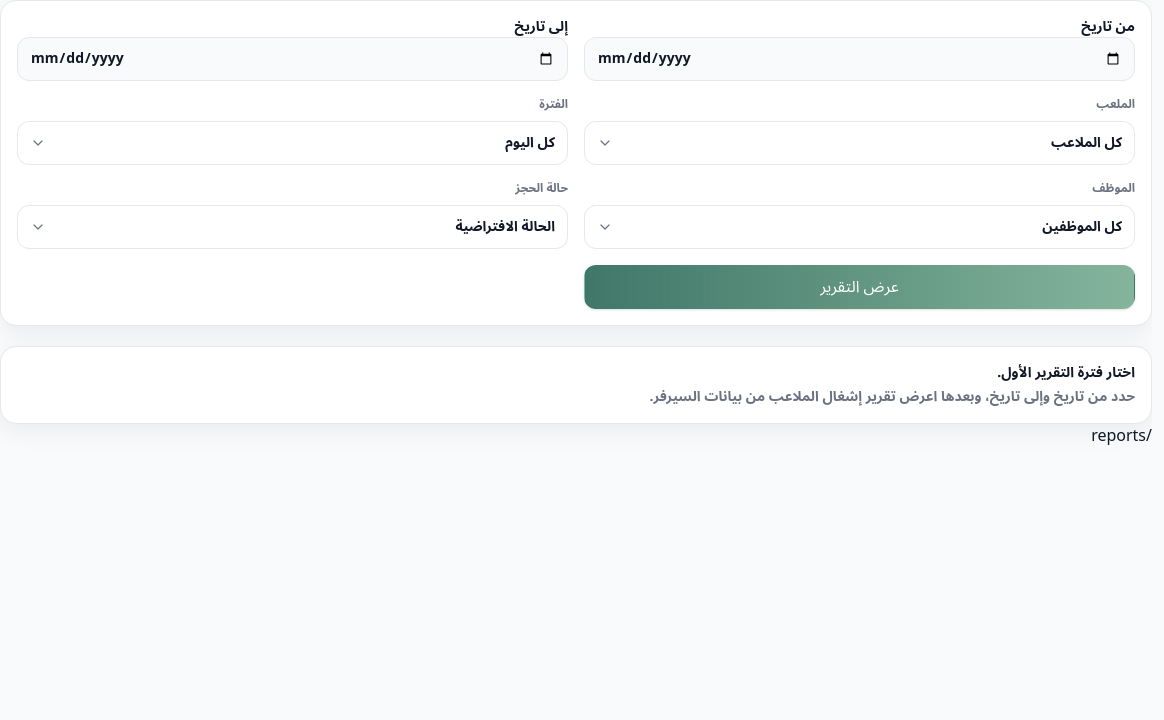
Test case: ReportsPage › shows period options and requires custom hours only for custom period
Click the button named "الفترة".
click(530, 142)  # box x1=17 y1=121 x2=568 y2=165
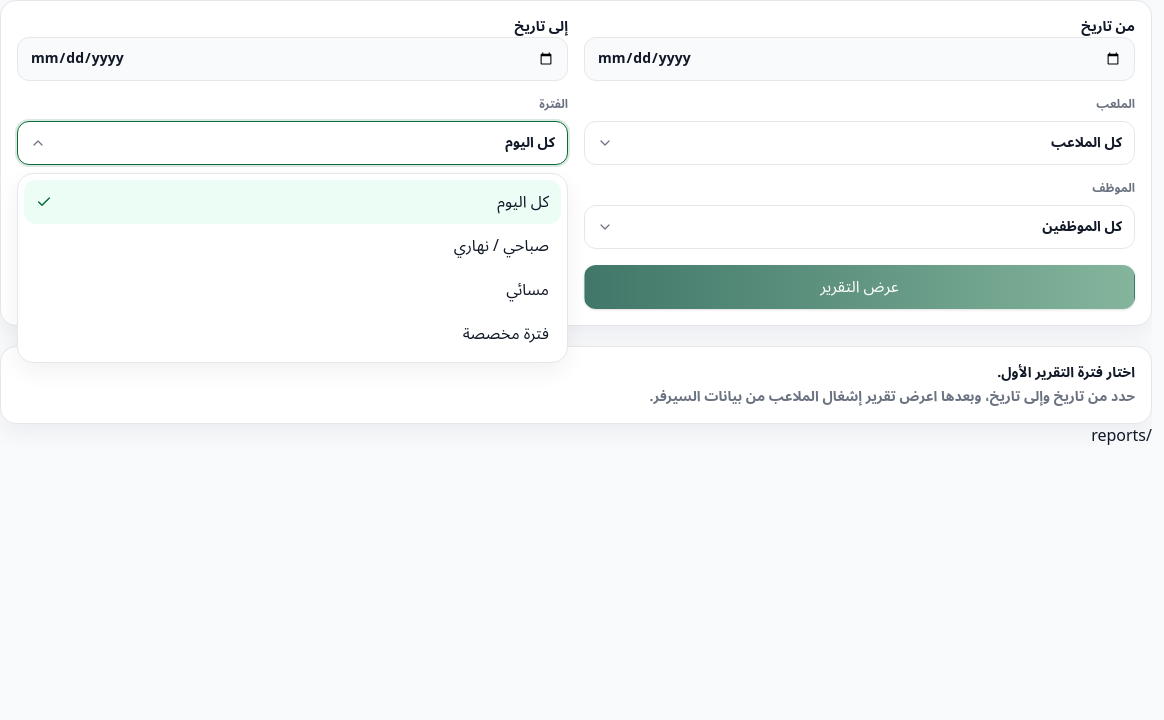
Result: the option "كل اليوم" holds "all_day" at x1=24 y1=180 x2=561 y2=224
Result: the option "صباحي / نهاري" holds "daytime" at x1=24 y1=224 x2=561 y2=268
Result: the option "مسائي" holds "evening" at x1=24 y1=268 x2=561 y2=312
Click the option "فترة مخصصة".
click(506, 334)  # box x1=24 y1=312 x2=561 y2=356
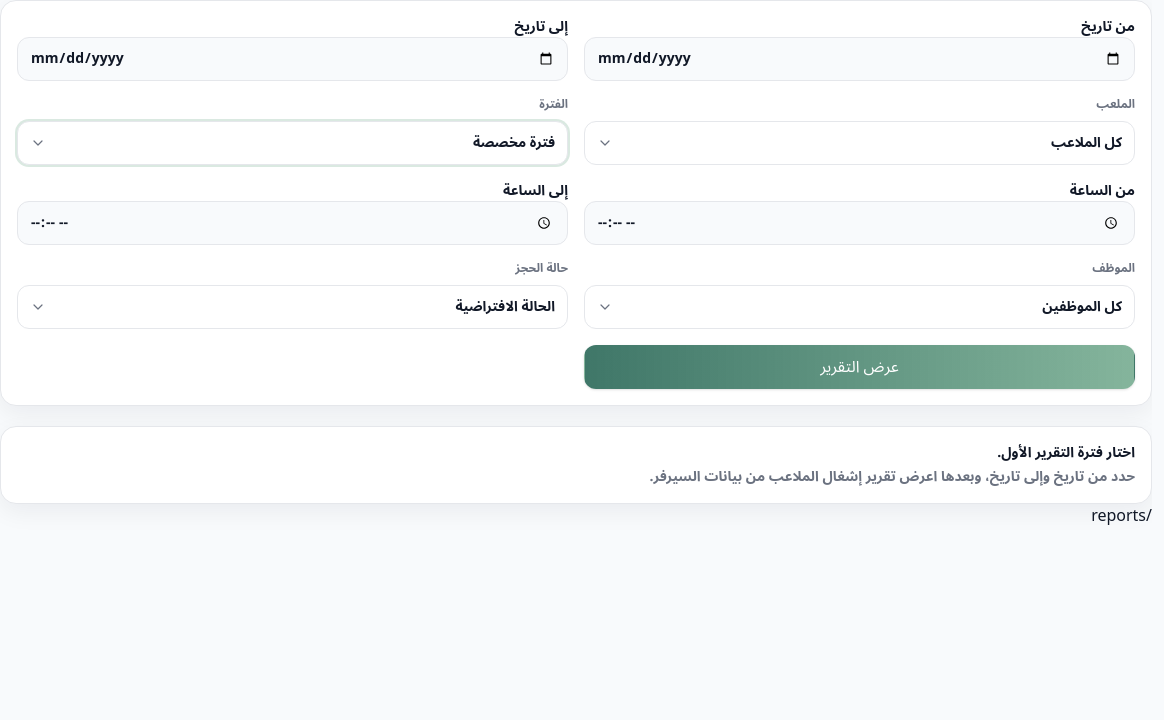
Result: the time field labelled "من الساعة" is shown at x1=584 y1=201 x2=1135 y2=245
Result: the time field labelled "إلى الساعة" is shown at x1=17 y1=201 x2=568 y2=245
Type "2026-07-01" into the date field labelled "من تاريخ".
click(860, 59); type("2026-07-01")  # box x1=584 y1=37 x2=1135 y2=81
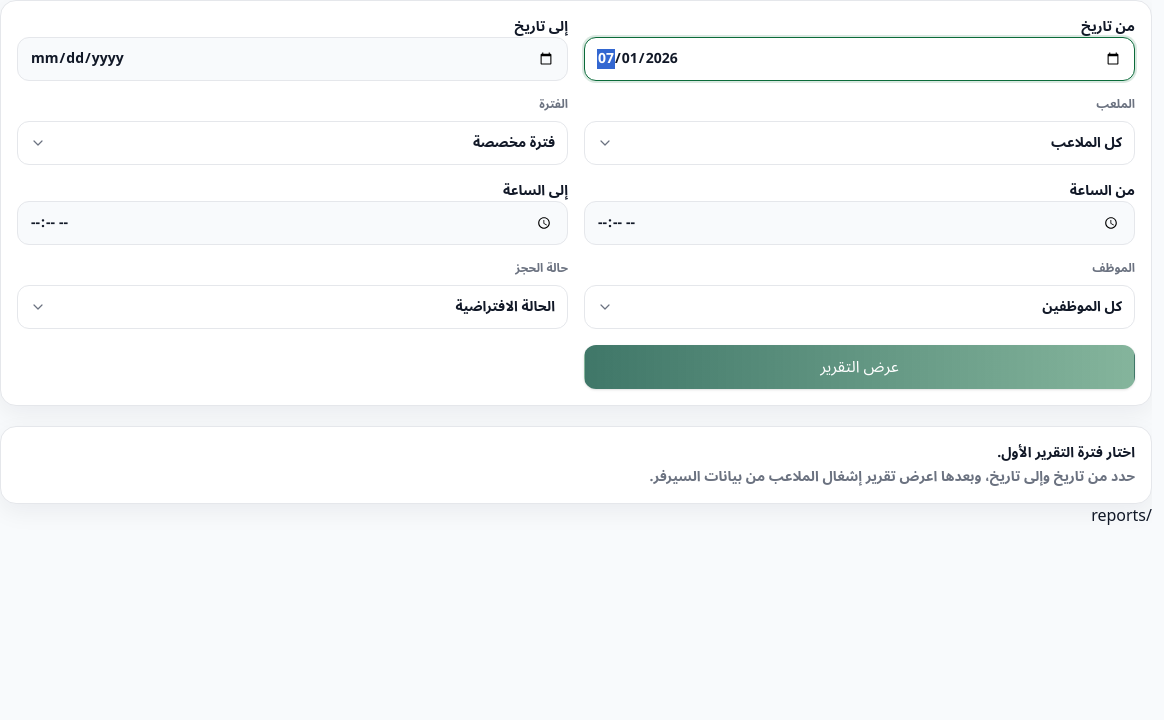
Type "2026-07-15" into the date field labelled "إلى تاريخ".
click(292, 59); type("2026-07-15")  # box x1=17 y1=37 x2=568 y2=81
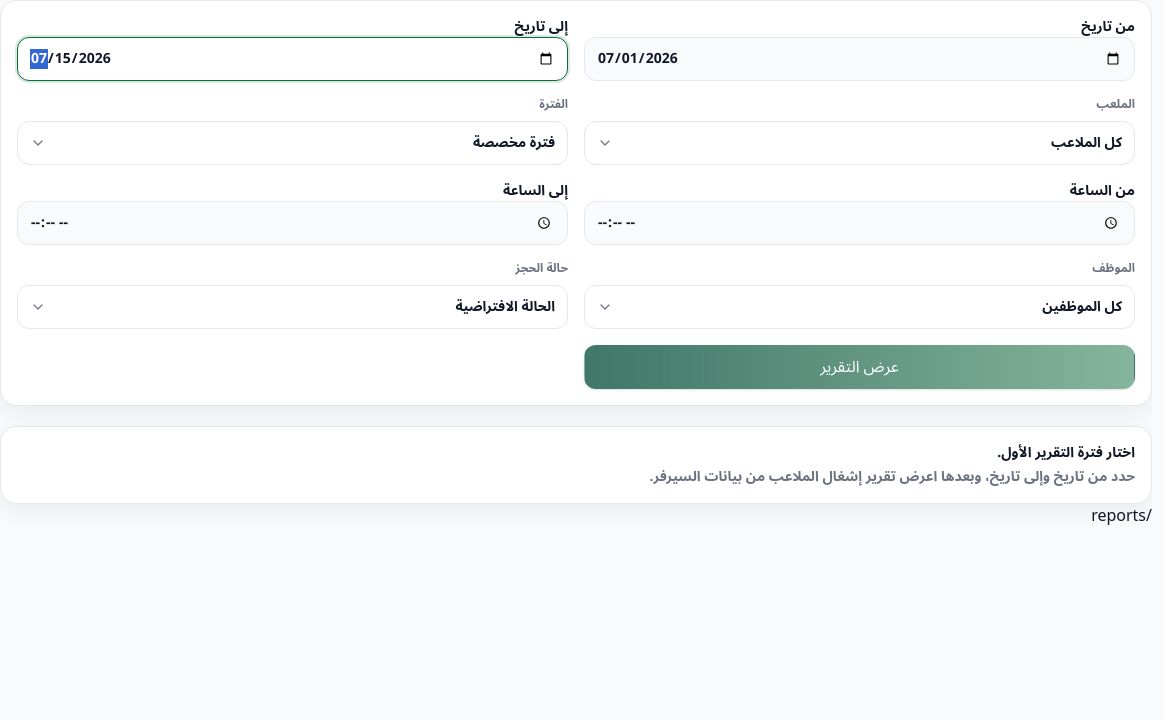
Click the button "عرض التقرير".
click(860, 367)  # box x1=584 y1=345 x2=1135 y2=389
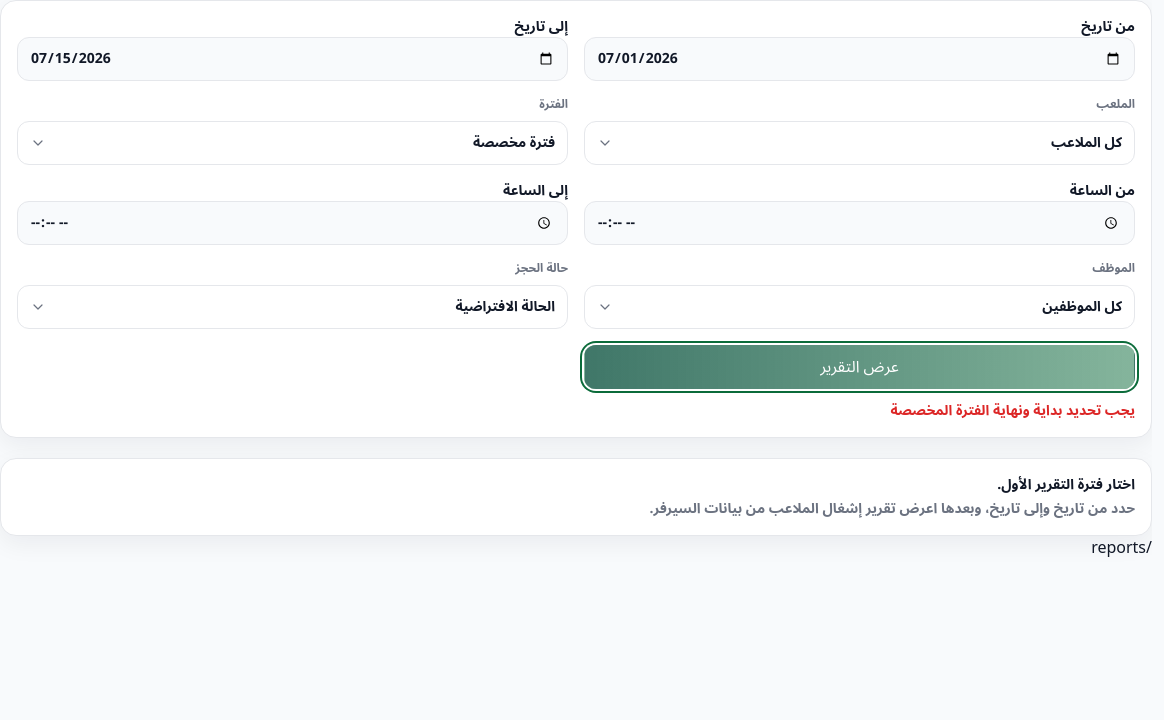
Result: the text "يجب تحديد بداية ونهاية الفترة المخصصة" is shown at x1=890 y1=396 x2=1135 y2=425
